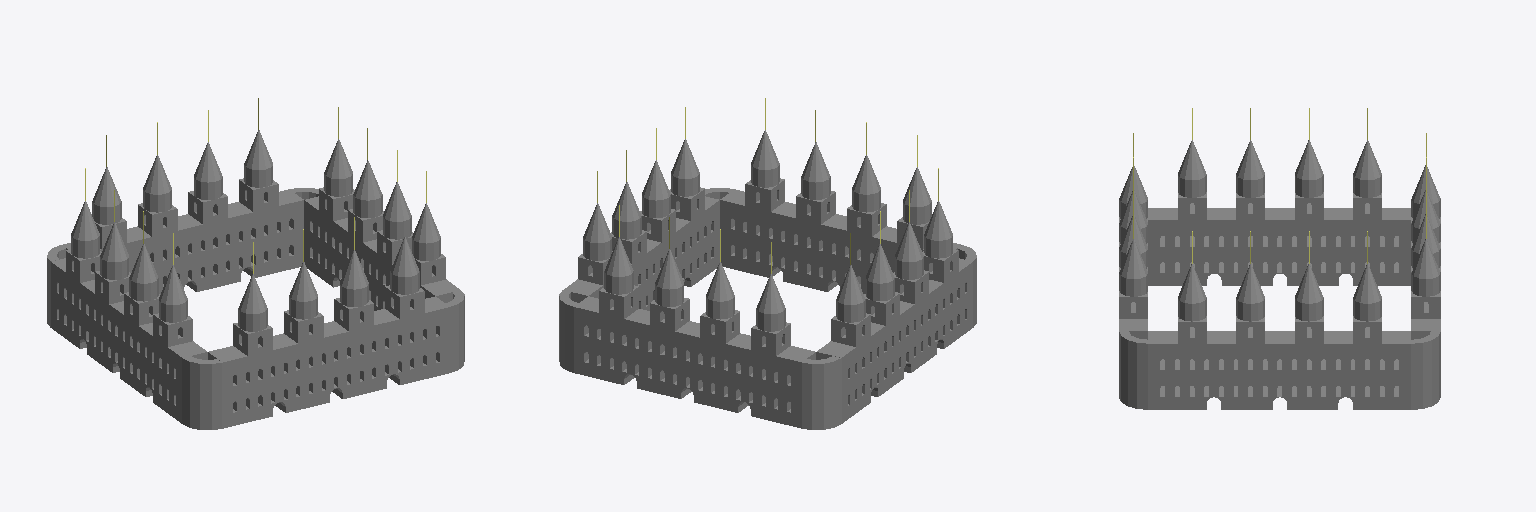
File: Hogwarts.obj
3 views of the same model, side by side, from view 1: azimuth 30°, elevation 25°; view 2: azimuth 150°, elevation 25°; view 3: azimuth 270°, elevation 25° (orthographic).
Parts seen in each view (by area): view 1: Layer_0; view 2: Layer_0; view 3: Layer_0.
Part boxes in pixels (left/top/right/bottom): Layer_0: left=47, top=98, right=464, bottom=429; Layer_0: left=559, top=98, right=976, bottom=429; Layer_0: left=1119, top=108, right=1440, bottom=409.
Size of the model in its own units: 330 by 195 by 330.